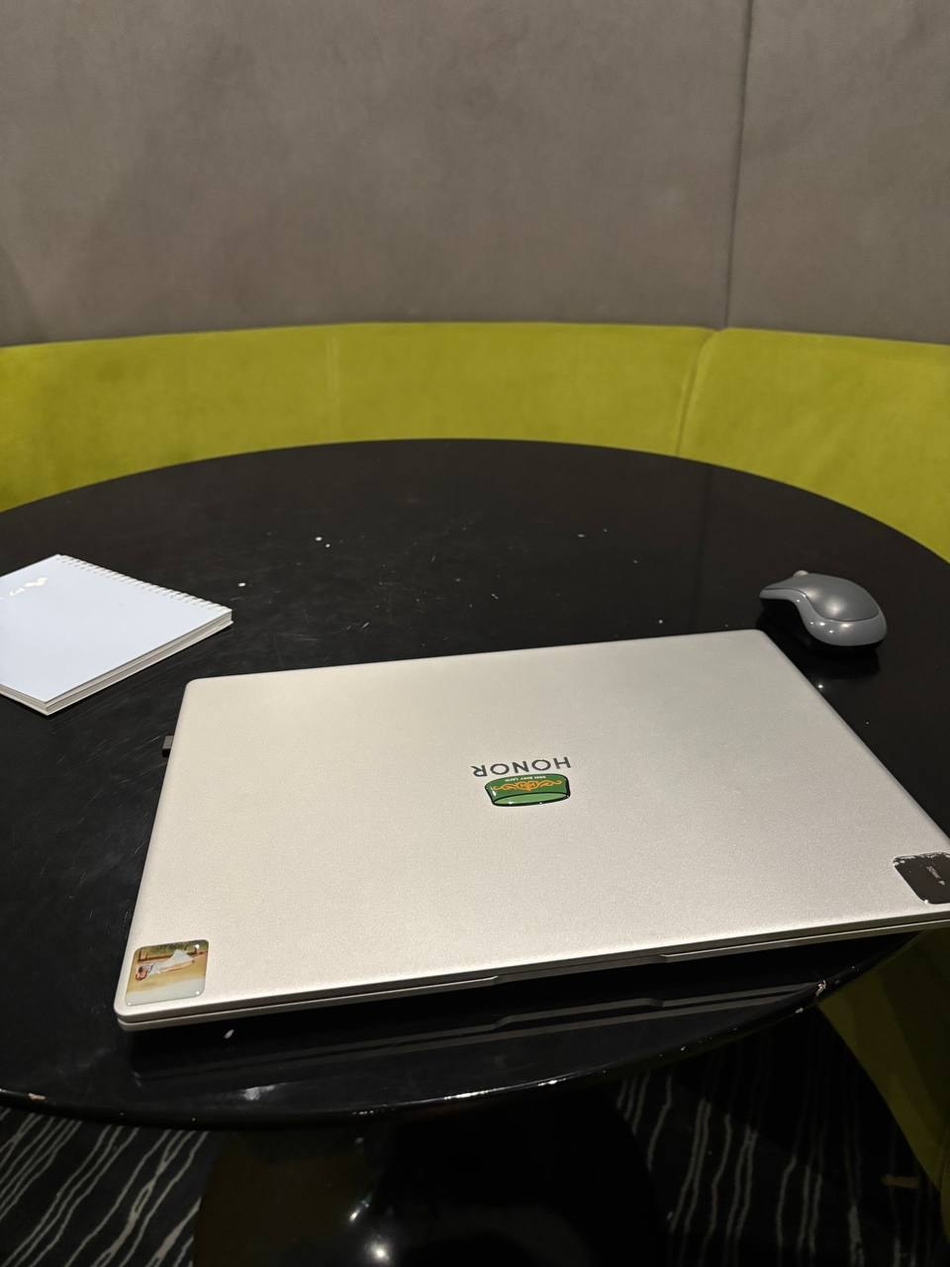laptop: (112, 626, 949, 1033)
